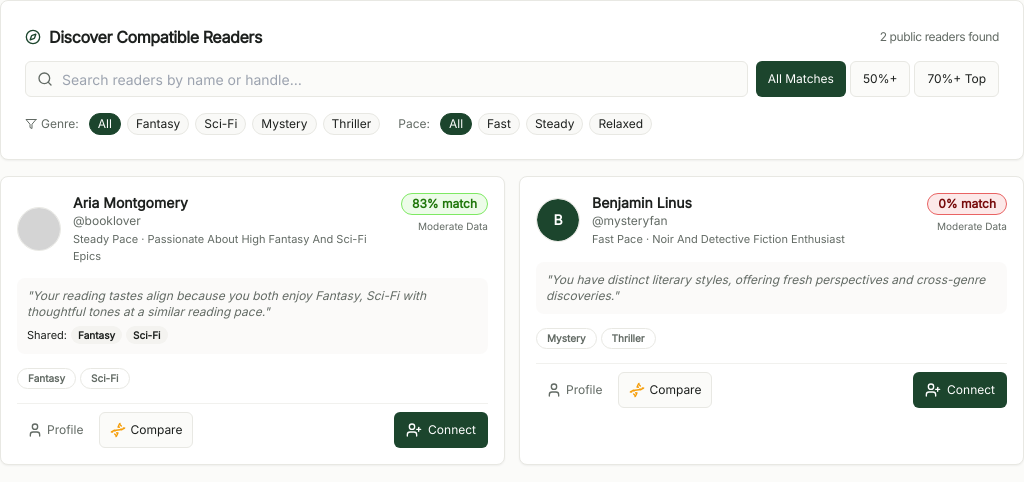
Test: ReaderDiscoveryList › filters readers when searching by name
In the field named "Search discoverable readers": (386, 79) [25,61,748,97], type "Aria"
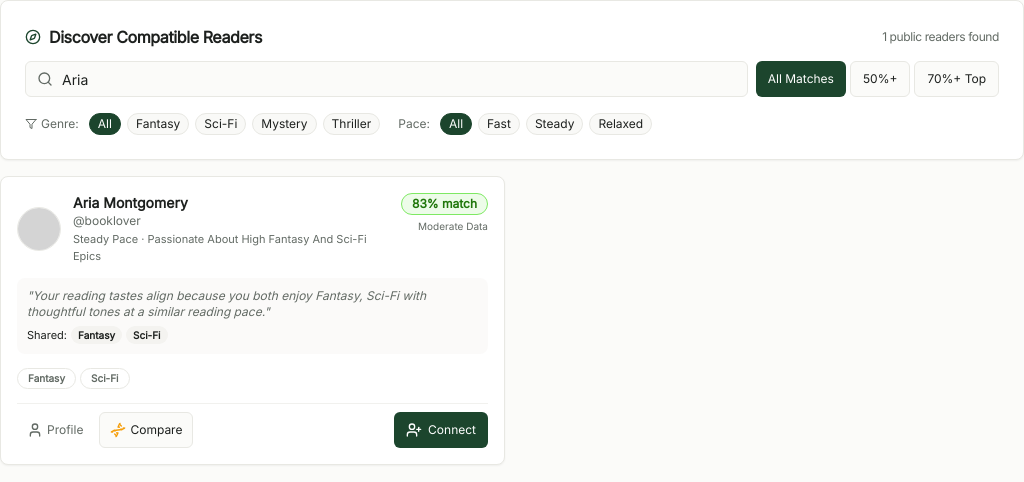
Expected: the text "Aria Montgomery" is shown, [73,194,188,211]
Expected: the text "Benjamin Linus" is gone
